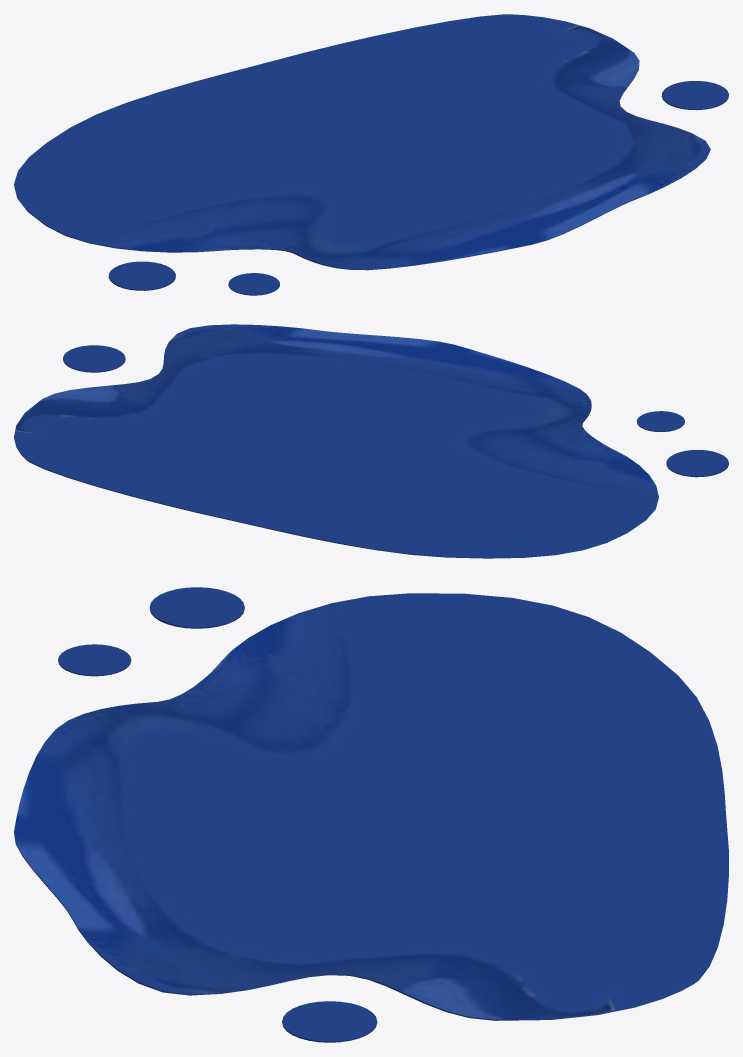
File: waterhole.FBX
The picture shows the model from 3 angles, top to bottom: view 1: azimuth 30°, elevation 25°; view 2: azimuth 150°, elevation 25°; view 3: azimuth 270°, elevation 25°; orthographic projection. The views are drawn at different scales.
Visible parts, largest first — view 1: Line001; view 2: Line001; view 3: Line001.
Boxes of the visible parts, x1,y1,x2,y2 form: Line001: [14, 14, 728, 295]; Line001: [14, 324, 728, 558]; Line001: [14, 587, 728, 1042].
Bounding box in the file's own units: 384 × 0.5373 × 255.
2 materials, 2 textured.
